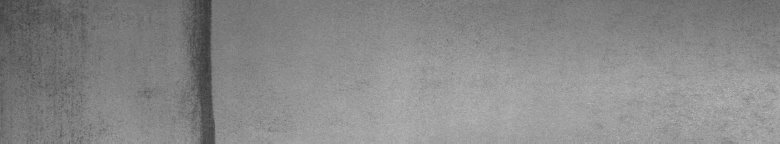hd: (4, 4, 223, 136)
